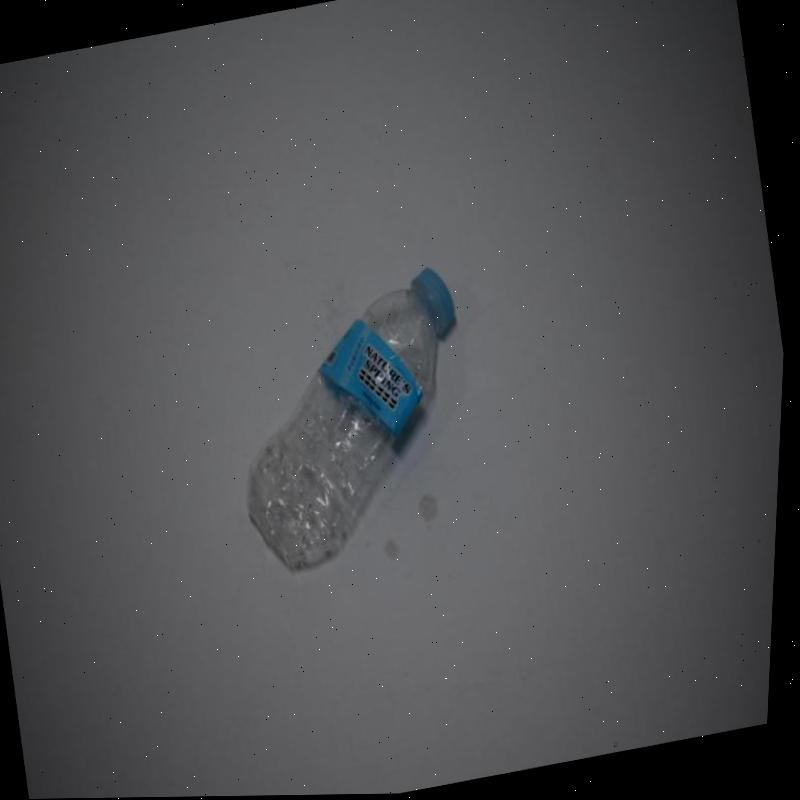botella: (215, 265, 500, 576)
